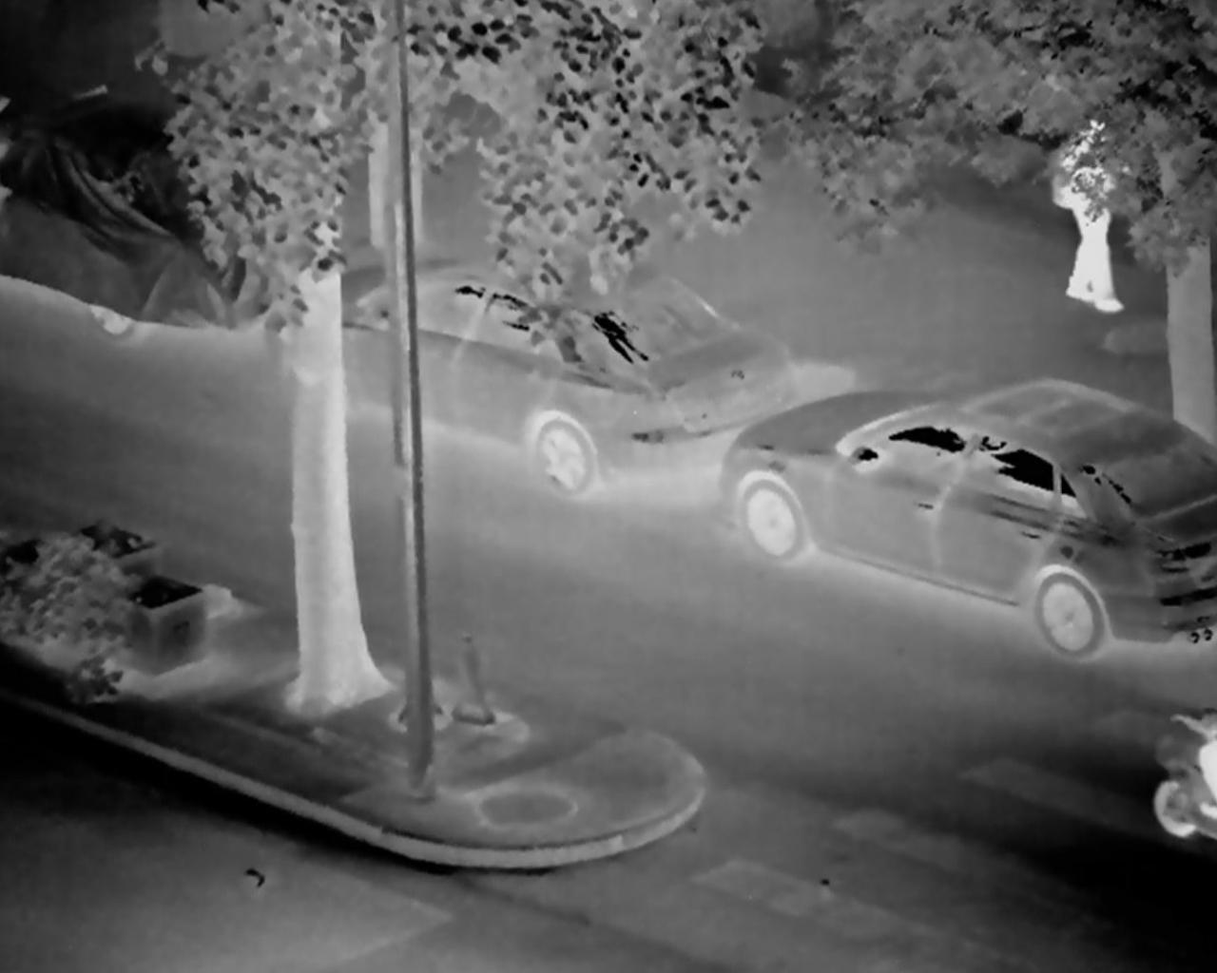person: (1049, 110, 1133, 314)
